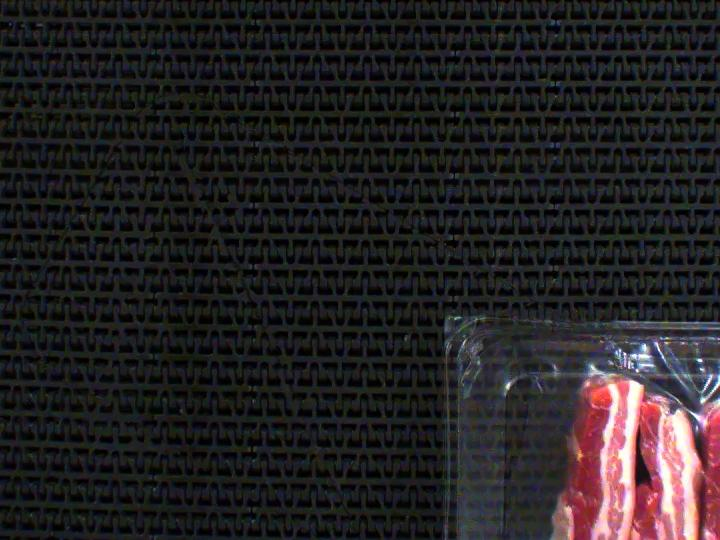unsealed: (452, 320, 720, 540)
